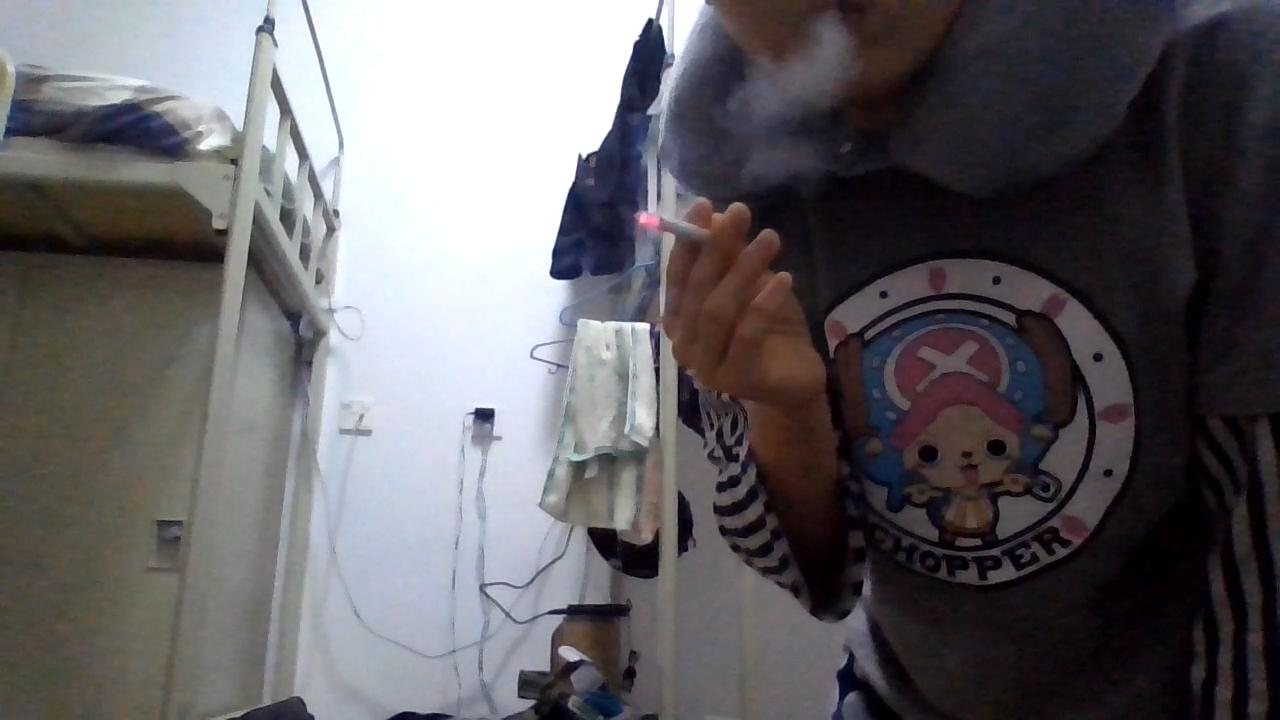yanwu: (736, 27, 858, 147)
